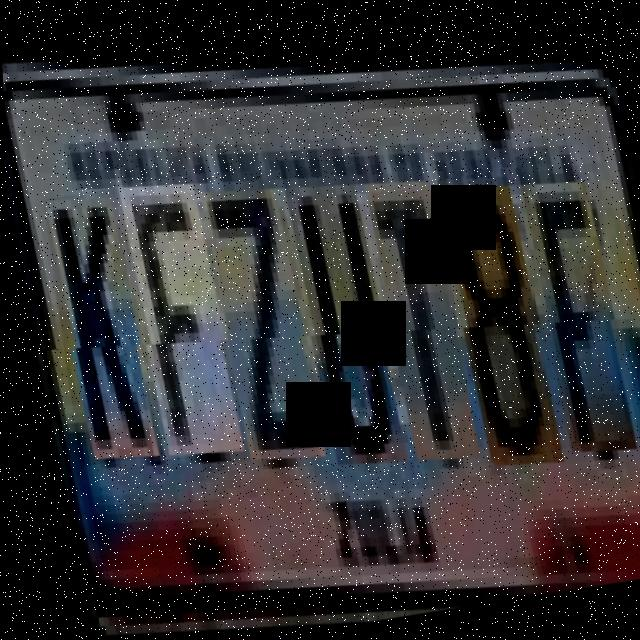8: (435, 171, 558, 470)
F: (113, 173, 239, 464), (515, 167, 631, 456)
K: (41, 188, 155, 468)
T: (359, 167, 476, 467)
U: (279, 172, 402, 471)
Z: (194, 177, 320, 468)
